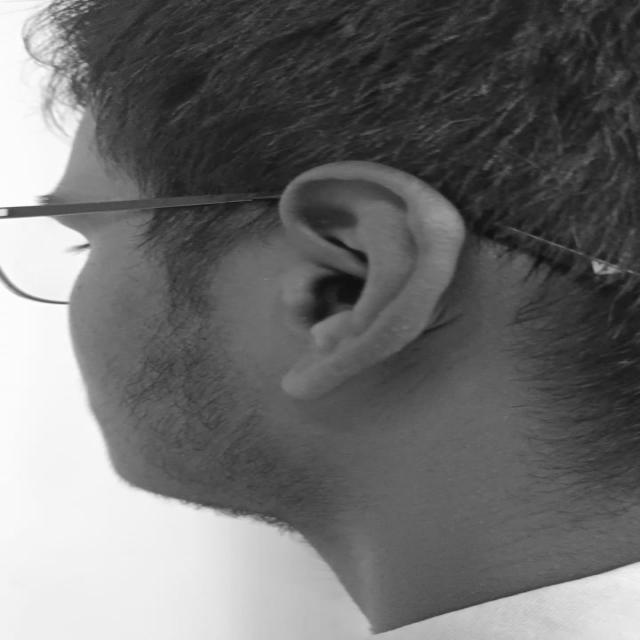ear: (280, 161, 465, 399)
